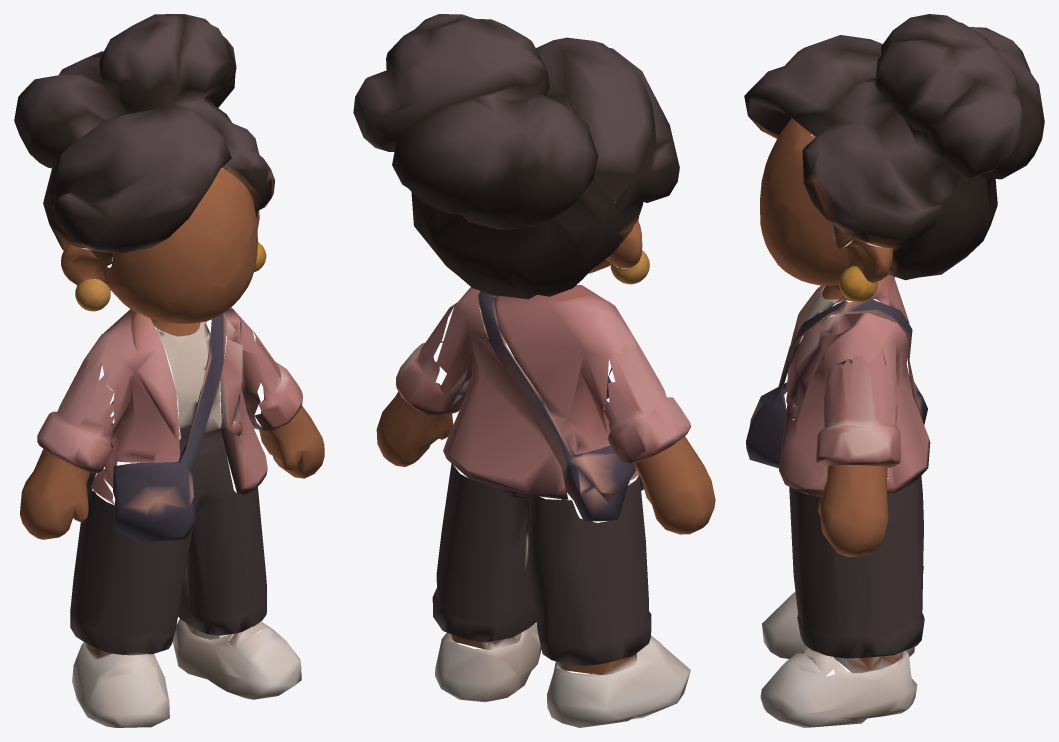
The picture shows the model from 3 angles, left to right: view 1: azimuth 30°, elevation 25°; view 2: azimuth 150°, elevation 25°; view 3: azimuth 270°, elevation 25°; orthographic projection. The views are drawn at different scales.
Parts seen in each view (by area): view 1: hair, bottom, top, head, shoe_l, shoe_r, sleeve_r, hand_r, hand_l, sleeve_l, acc_head_earr; view 2: hair, top, bottom, shoe_r, sleeve_r, shoe_l, hand_r, hand_l, sleeve_l, head, acc_head_earr; view 3: hair, top, bottom, head, shoe_l, sleeve_l, hand_l, shoe_r, acc_head_earl.
Boxes of the visible parts, x1,y1,x2,y2 form: hair: [14, 14, 274, 280]; bottom: [70, 322, 266, 655]; top: [84, 307, 267, 543]; head: [61, 167, 259, 336]; shoe_l: [172, 619, 301, 699]; shoe_r: [72, 642, 169, 727]; sleeve_r: [37, 358, 116, 500]; hand_r: [20, 449, 90, 539]; hand_l: [259, 406, 324, 478]; sleeve_l: [250, 331, 302, 456]; acc_head_earr: [75, 279, 110, 311]; hair: [353, 14, 679, 299]; top: [436, 285, 643, 521]; bottom: [432, 463, 651, 665]; shoe_r: [547, 635, 690, 727]; sleeve_r: [603, 333, 690, 480]; shoe_l: [435, 623, 541, 702]; hand_r: [634, 436, 715, 534]; hand_l: [376, 391, 453, 466]; sleeve_l: [396, 306, 459, 416]; head: [588, 216, 642, 273]; acc_head_earr: [610, 250, 649, 284]; hair: [744, 14, 1044, 280]; top: [746, 275, 930, 497]; bottom: [789, 285, 924, 658]; head: [760, 118, 892, 299]; shoe_l: [760, 646, 917, 727]; sleeve_l: [807, 349, 900, 489]; hand_l: [818, 465, 888, 556]; shoe_r: [762, 592, 914, 660]; acc_head_earl: [839, 266, 877, 301].
Bounding box in the file's own units: 0.505 × 1.03 × 0.4174.
